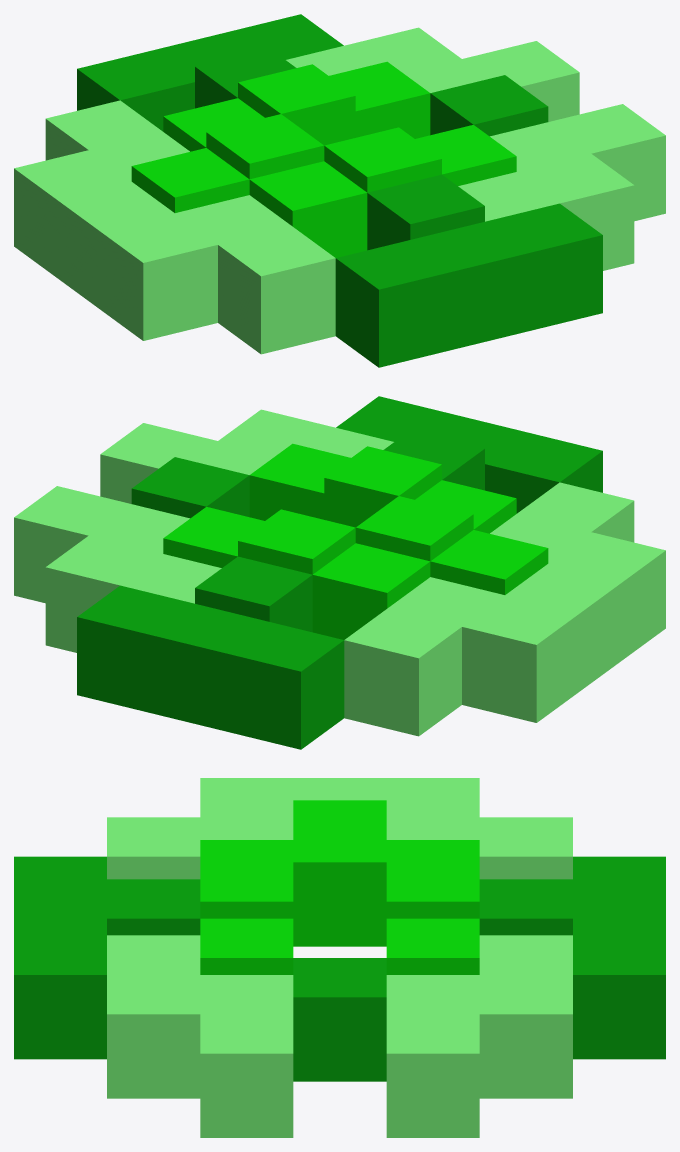
The model's file is GreenBlock_Ship.fbx.
3 views of the same model, one above another, from view 1: azimuth 30°, elevation 25°; view 2: azimuth 150°, elevation 25°; view 3: azimuth 270°, elevation 25° (orthographic). The views are drawn at different scales.
Visible parts, largest first — view 1: Cube.103, Cube.092, Cube.084; view 2: Cube.103, Cube.092, Cube.084; view 3: Cube.103, Cube.092, Cube.084.
Boxes of the visible parts, x1=… form: Cube.103: x1=14, y1=27, x2=665, y2=354; Cube.092: x1=77, y1=14, x2=602, y2=367; Cube.084: x1=131, y1=61, x2=516, y2=257; Cube.103: x1=14, y1=409, x2=665, y2=736; Cube.092: x1=77, y1=396, x2=602, y2=749; Cube.084: x1=163, y1=443, x2=548, y2=639; Cube.103: x1=107, y1=778, x2=572, y2=1137; Cube.092: x1=14, y1=856, x2=665, y2=1081; Cube.084: x1=200, y1=800, x2=479, y2=974.
Bounding box in the file's own units: 7 × 1.4 × 7.
